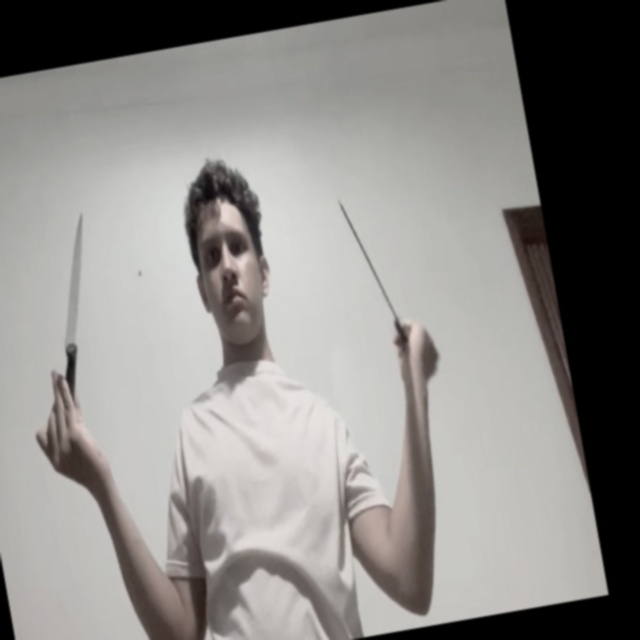Sharp-Object: (338, 193, 405, 340), (44, 210, 105, 350)
